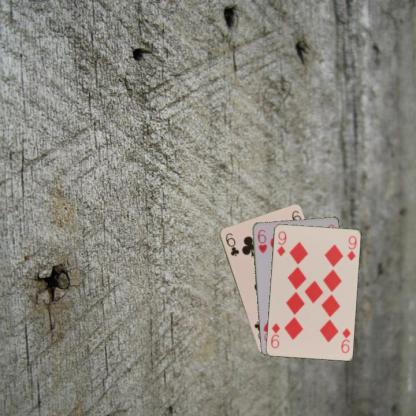6c: (223, 230, 240, 257)
6h: (255, 227, 268, 254)
9d: (338, 325, 352, 354), (275, 228, 287, 257)
